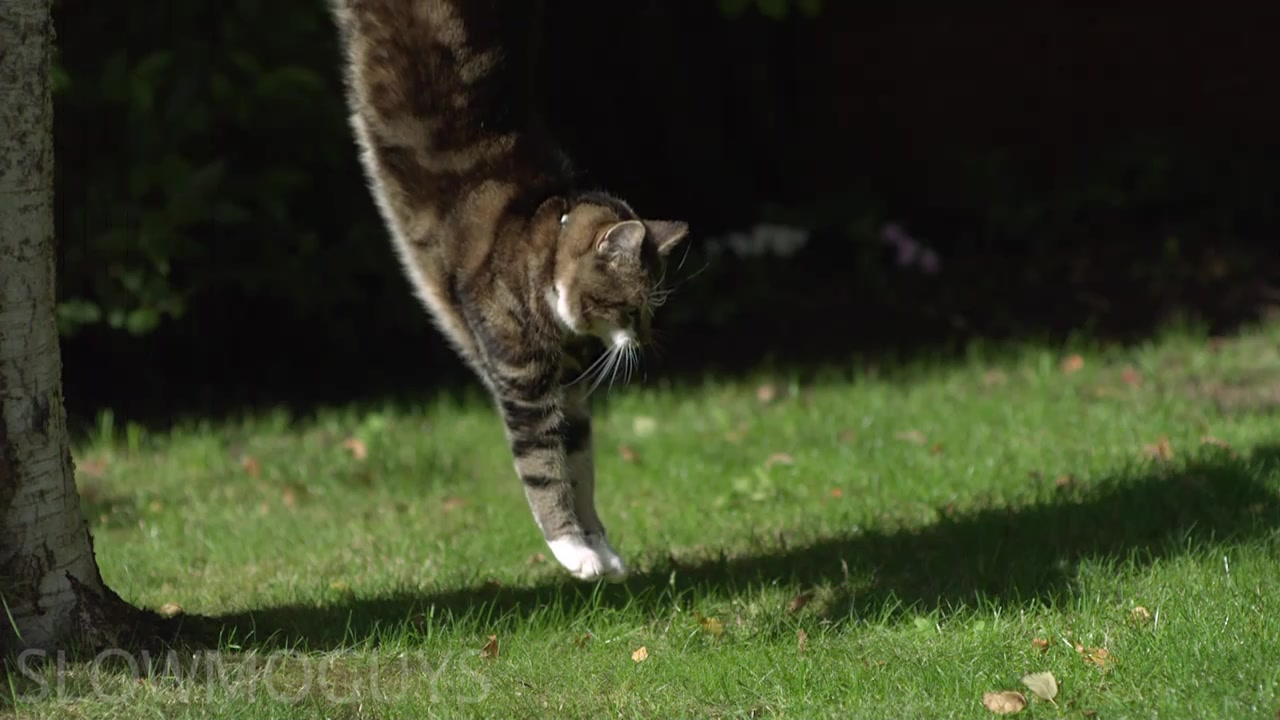cat: (332, 1, 698, 583)
